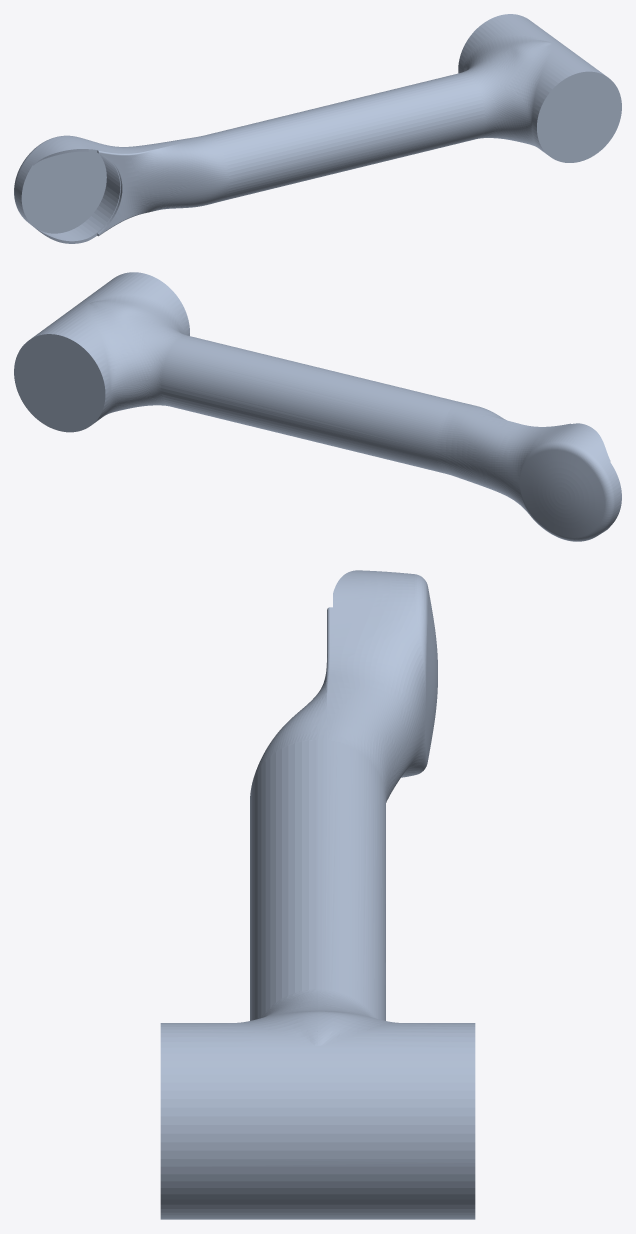
3 views of the same model, one above another, from view 1: azimuth 30°, elevation 25°; view 2: azimuth 150°, elevation 25°; view 3: azimuth 270°, elevation 25° (orthographic). The views are drawn at different scales.
Parts seen in each view (by area): view 1: UArm-V3.6-Main arm-simplified; view 2: UArm-V3.6-Main arm-simplified; view 3: UArm-V3.6-Main arm-simplified.
Part boxes in pixels (bbox=[...]): UArm-V3.6-Main arm-simplified: bbox=[14, 14, 621, 243]; UArm-V3.6-Main arm-simplified: bbox=[14, 272, 621, 541]; UArm-V3.6-Main arm-simplified: bbox=[160, 570, 475, 1219].
Bounding box in the file's own units: 0.415 × 0.104 × 0.069.
